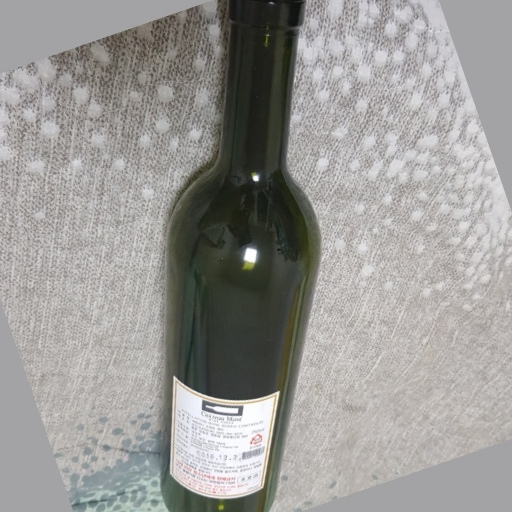Glass_2: (157, 9, 327, 512)
